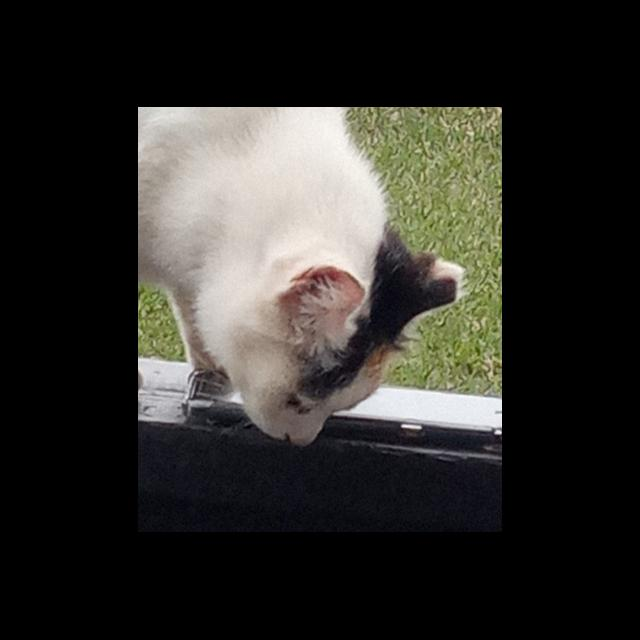animals: (219, 231, 470, 468)
